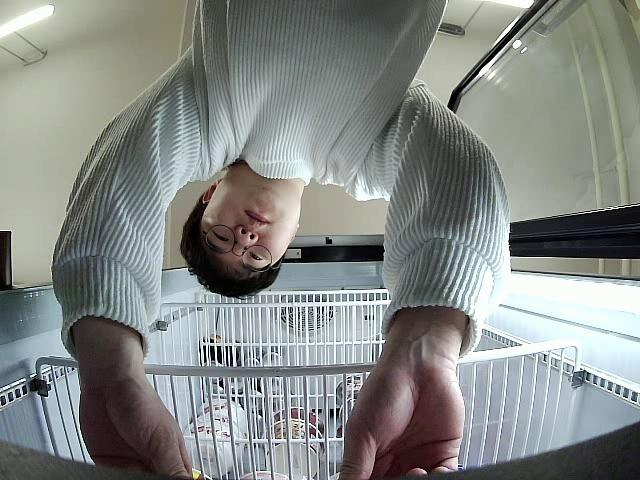00_hand: (341, 359, 463, 480), (79, 385, 192, 480)
